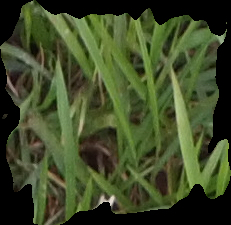grass: (1, 1, 230, 223)
